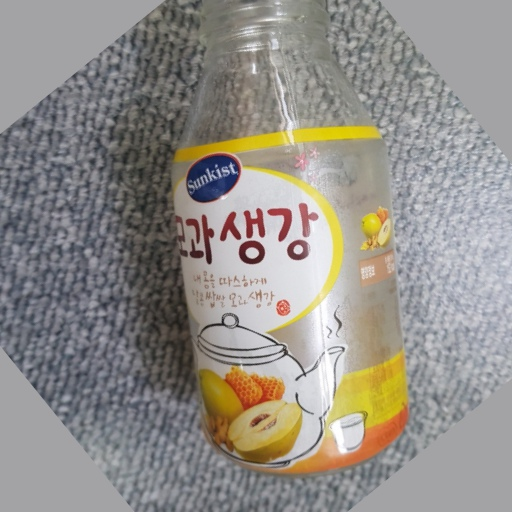Glass_4: (165, 1, 424, 469)
